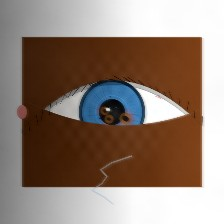foreign_body_visible: (137, 126, 169, 152)
